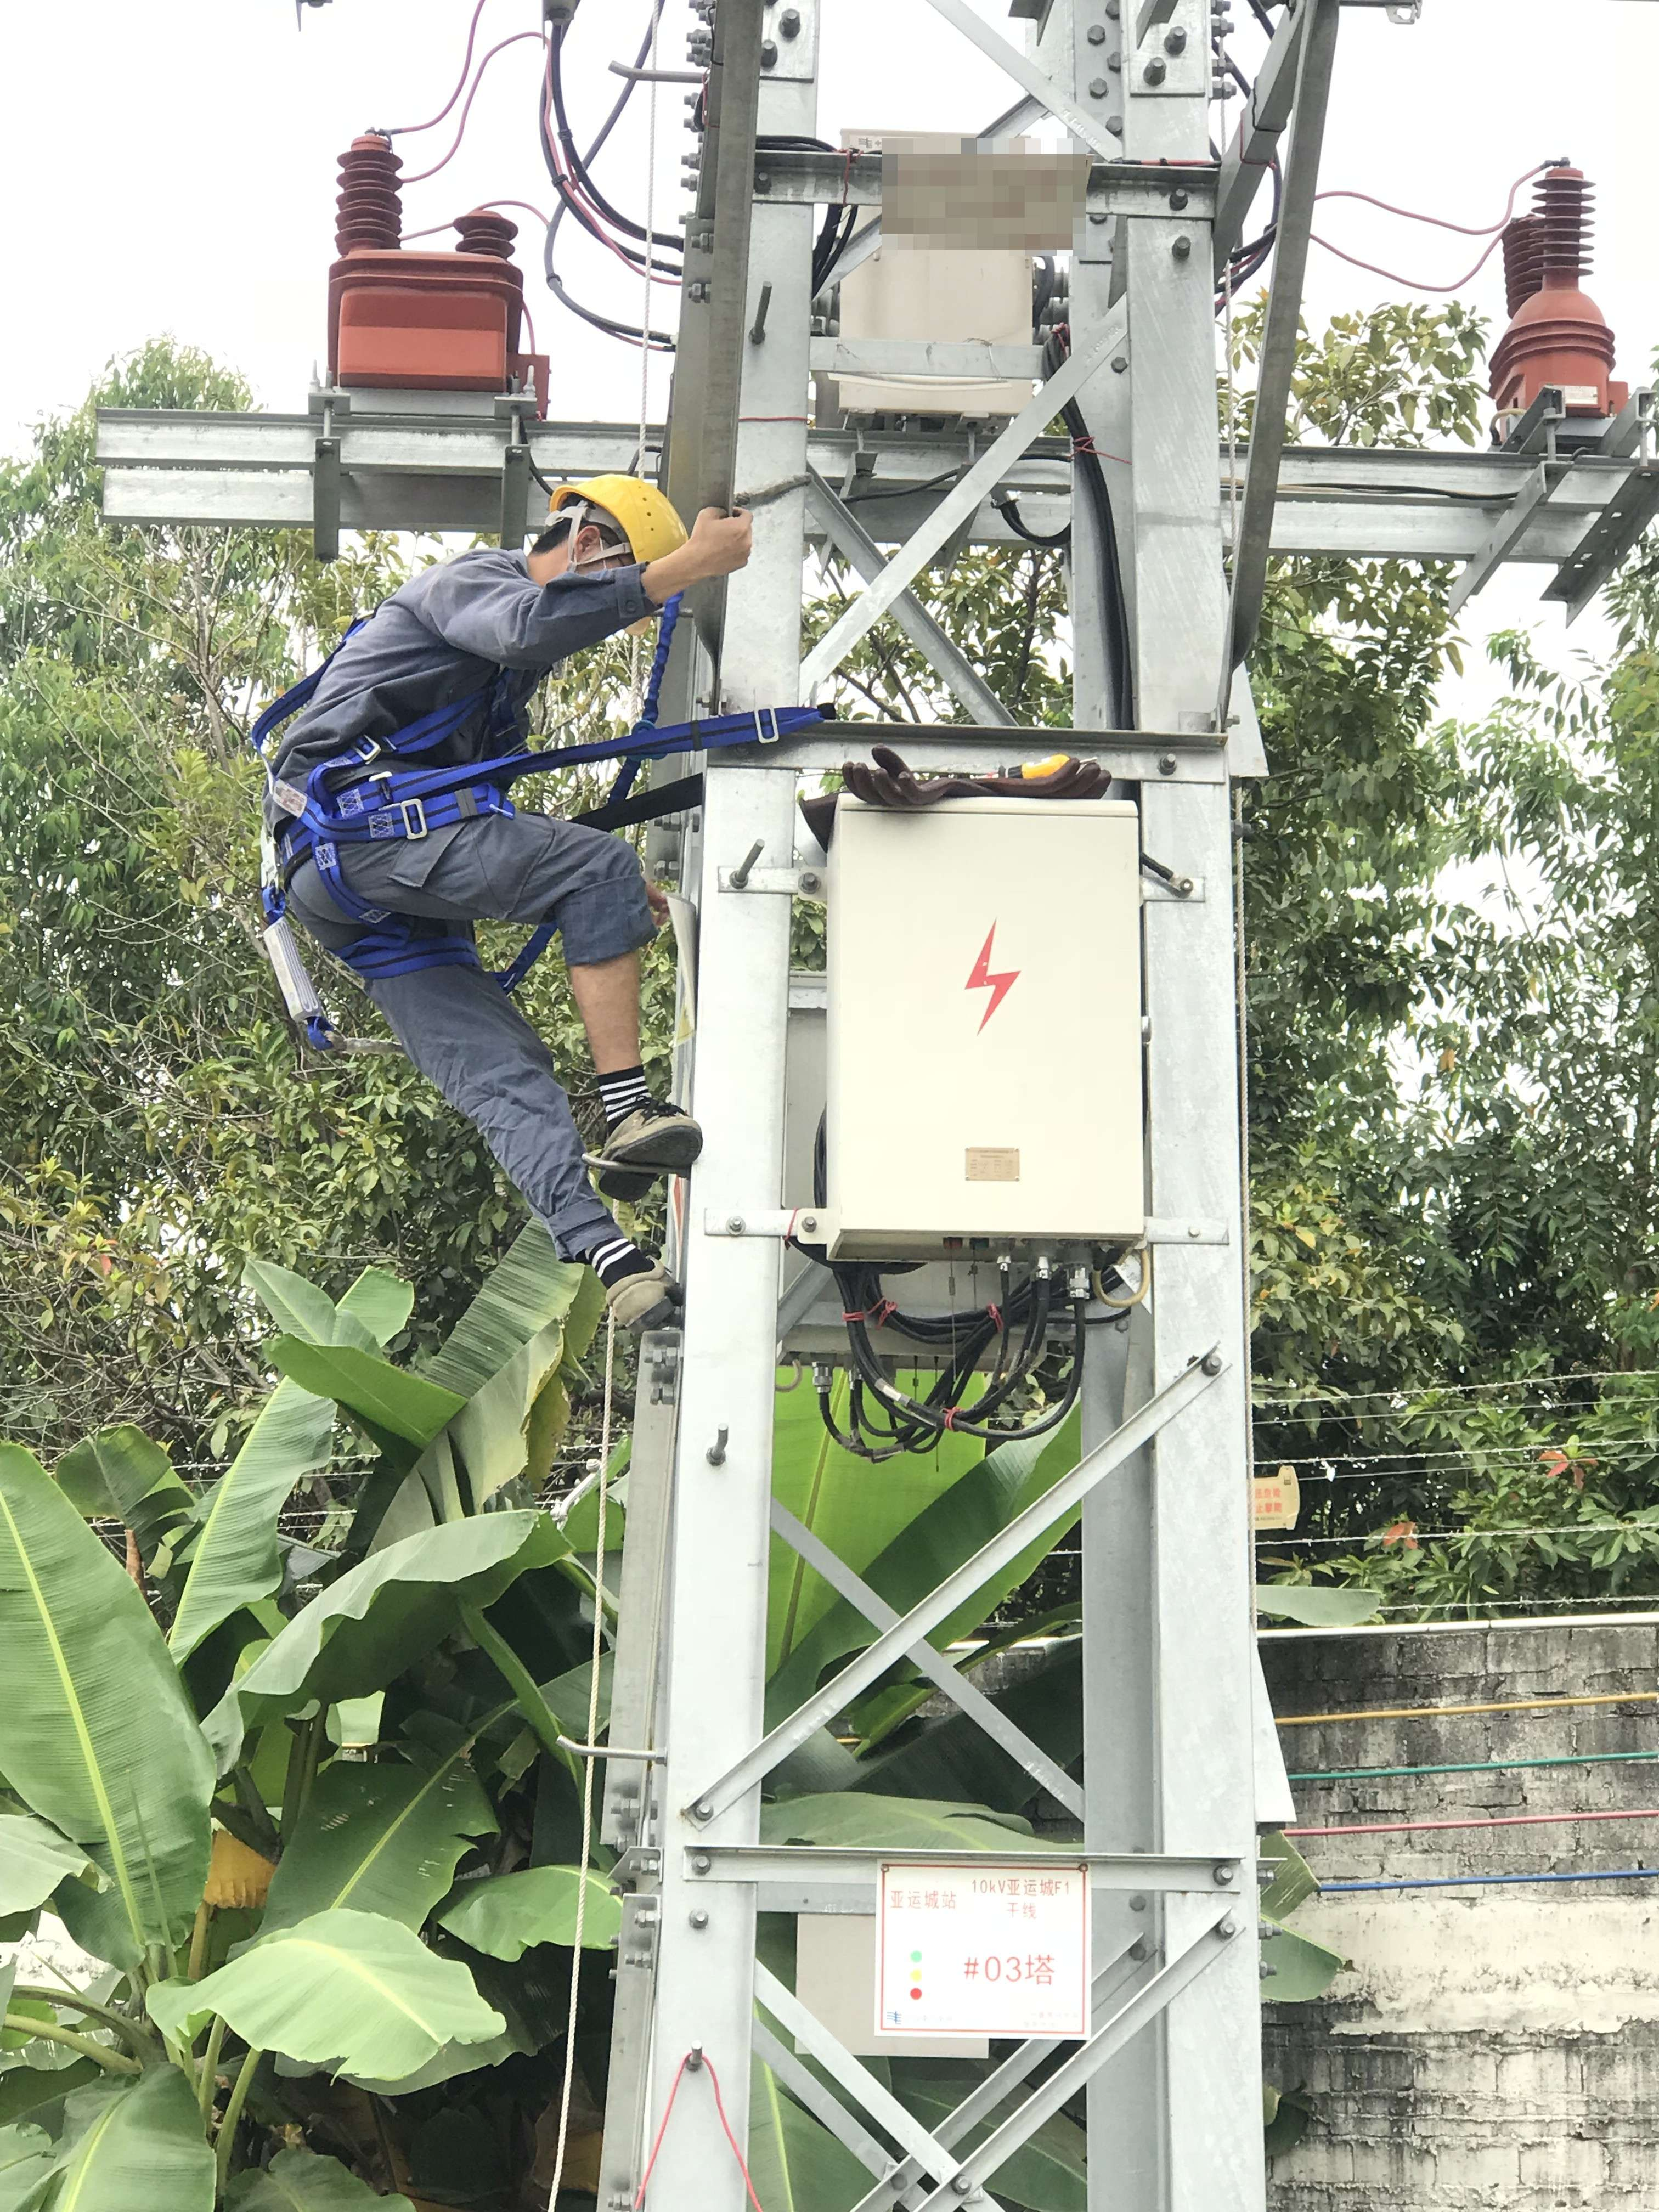downsuit: (282, 824, 666, 1263)
upsuit: (260, 554, 671, 824)
wrongbottom: (545, 881, 683, 1123)
